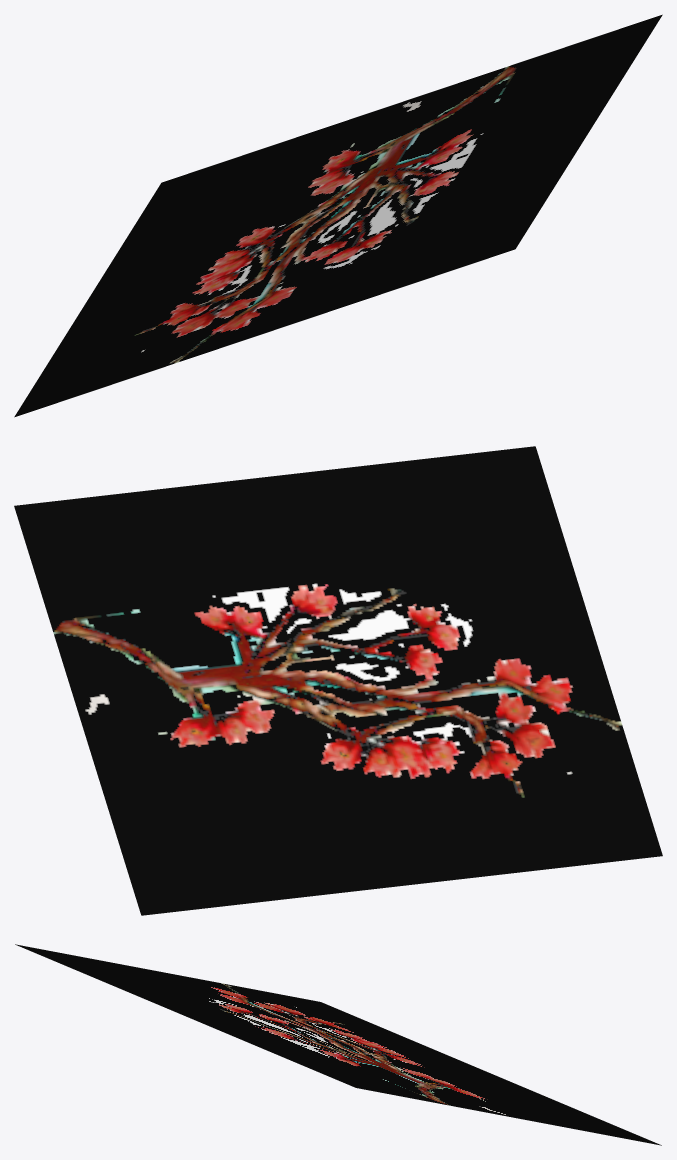
File: H1_RPl_Cherry7.gltf
3 renders of one model, top to bottom at view 1: azimuth 30°, elevation 25°; view 2: azimuth 150°, elevation 25°; view 3: azimuth 270°, elevation 25°, orthographic. The views are drawn at different scales.
Parts seen in each view (by area): view 1: H1_RPl_Cherry7; view 2: H1_RPl_Cherry7; view 3: H1_RPl_Cherry7.
Boxes of the visible parts, x1,y1,x2,y2 form: H1_RPl_Cherry7: (14,14,662,417); H1_RPl_Cherry7: (14,446,662,915); H1_RPl_Cherry7: (15,944,661,1145).
Bounding box in the file's own units: 1.79 × 0.5721 × 1.79.
1 material, 1 textured.
